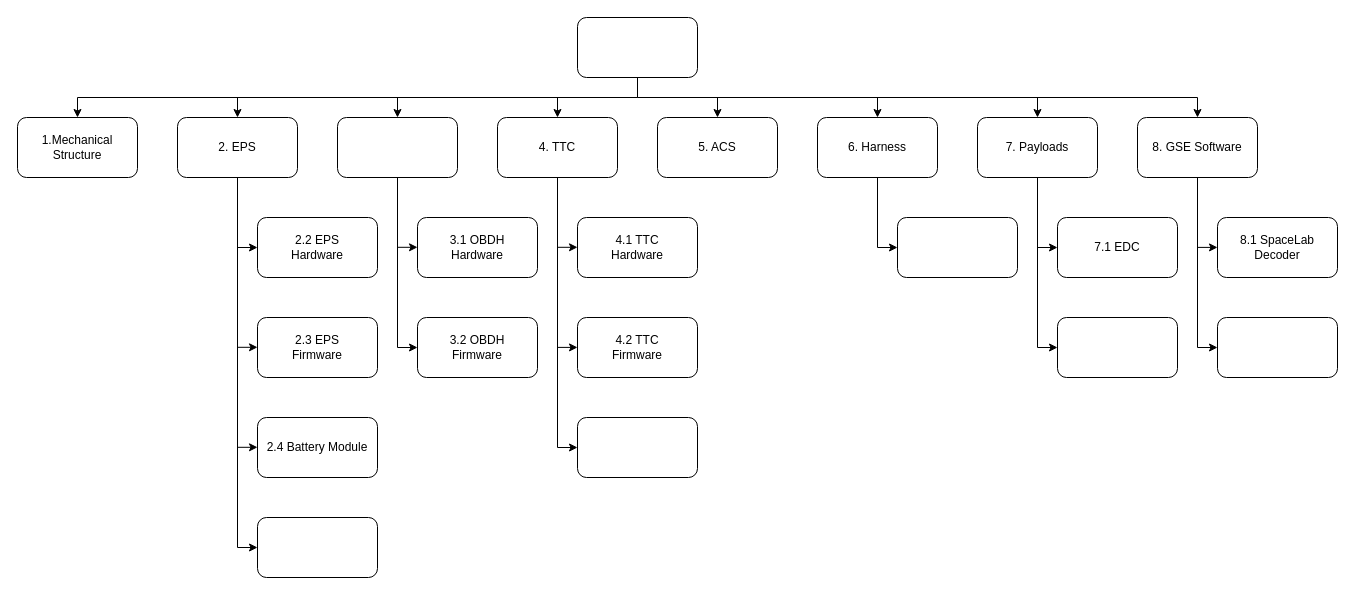
Image size: 1355x595. Some labels were removed from this diagram. Here are the shapes that lost their labels. From the top down, the box of each, then its label:
(576, 16, 698, 78): Catarina-A1
(336, 116, 458, 178): 3. OBDH
(896, 216, 1018, 278): 6.1 Interface Boards
(1056, 316, 1178, 378): 7.2 ExpLoRa
(1216, 316, 1338, 378): 8.2 SpaceLab Transmitter
(576, 416, 698, 478): 4.3 Antenna
(256, 516, 378, 578): 2.5 Solar Panels
